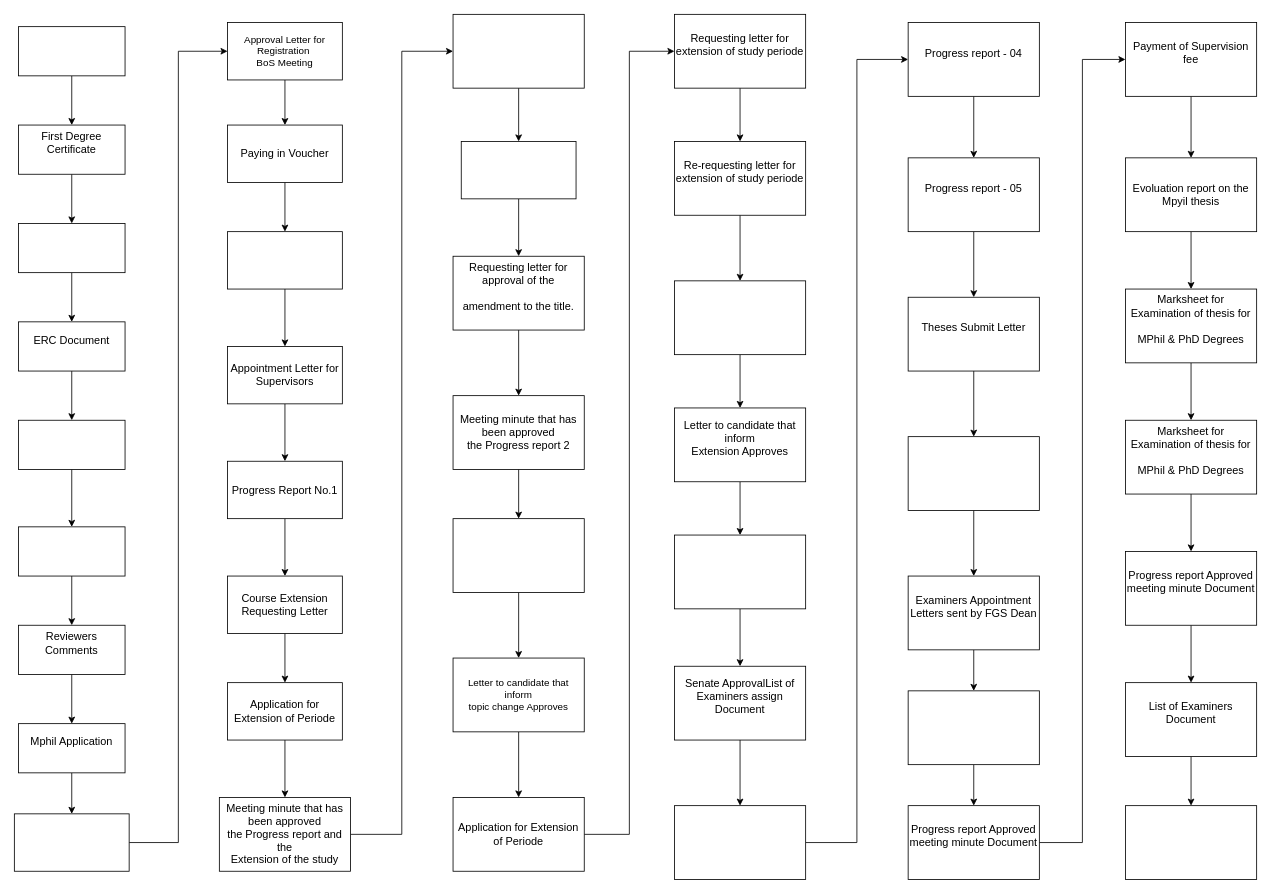
Some shapes in this 1271 by 894 pixel diagram are drawn without their labels. Each missing label, with the centre of its shape:
"Approval For Registration Document from the BoS Meeting" belongs at (x=71, y=842).
"Finale Result Sheet" belongs at (x=1191, y=842).
"Letter of Requesting examiners and inform handing over theses" belongs at (x=973, y=727).
"Letter to candidate that inform progress report 2 Approves" belongs at (x=518, y=555).
"Letter to candidate that inform progress report Approves" belongs at (x=518, y=51).
"Meeting minute that has been approved the Extension of study periode" belongs at (x=740, y=317).
"Original Copy of Birth Certificate" belongs at (x=71, y=51).
"Pay in Voucher" belongs at (x=973, y=473).
"Paying in voucher for Extensio" belongs at (x=740, y=571).
"Post Graduate Certificate" belongs at (x=71, y=248).
"Progress report - 03" belongs at (x=740, y=842).
"Progress Report Progress Report No.2" belongs at (x=518, y=170).
"Reaearch Proposal" belongs at (x=71, y=551).
"Registered Letter for MPhil degree" belongs at (x=284, y=260).
"Reviewers Approvals Documents" belongs at (x=71, y=444).
